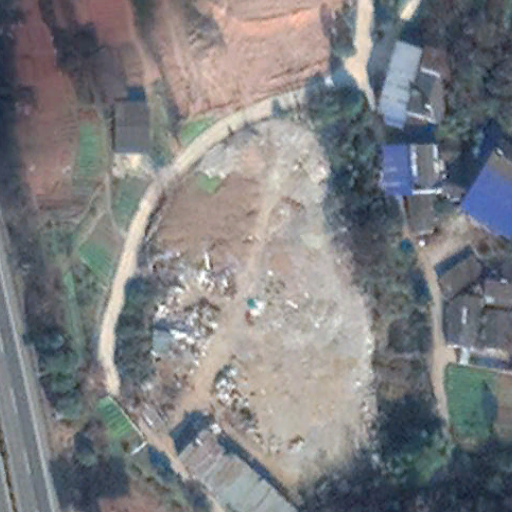msw: (151, 246, 236, 379), (217, 364, 275, 455)
